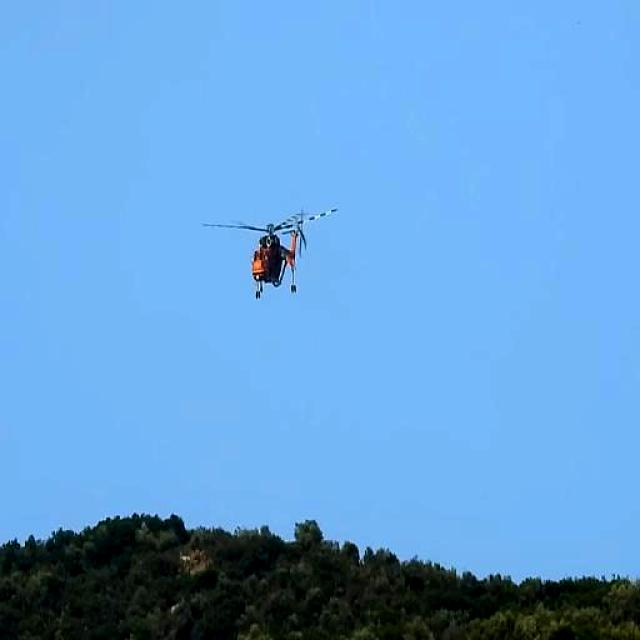drone: (200, 206, 339, 301)
